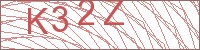2: (78, 1, 95, 26)
3: (51, 6, 69, 33)
K: (26, 7, 49, 35)
Z: (103, 1, 125, 26)
